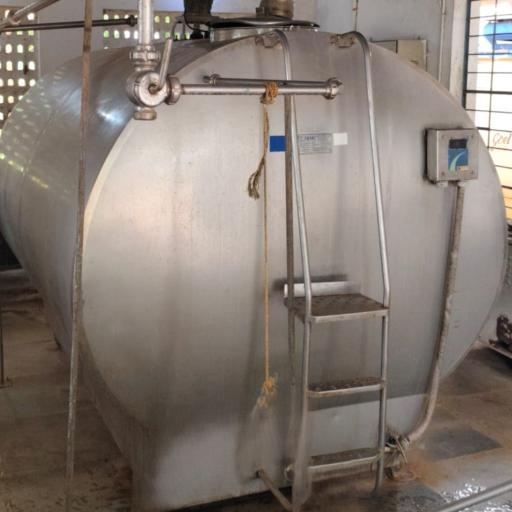silo: (0, 12, 508, 508)
